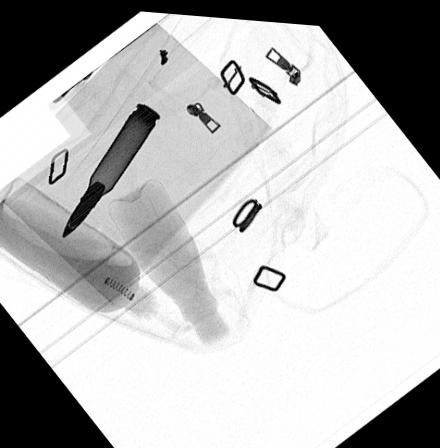Bullet: (59, 100, 160, 238)
